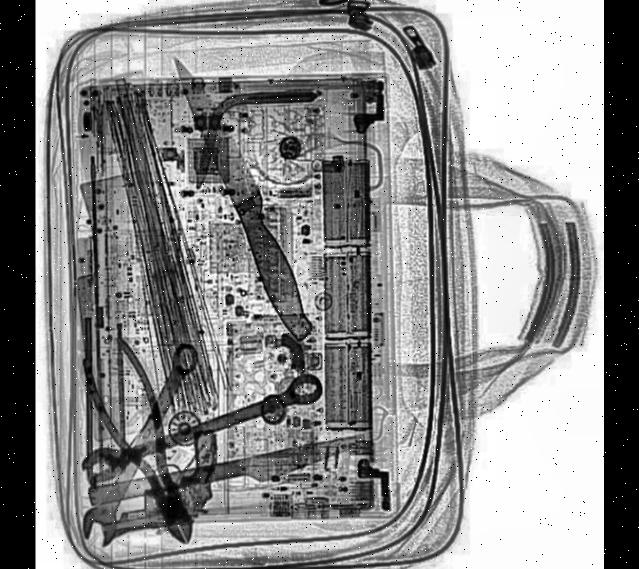Gun: (95, 427, 226, 541)
Knife: (166, 47, 322, 347), (90, 435, 368, 517)
Pliers: (76, 333, 216, 562)
Wrench: (81, 367, 328, 493), (78, 330, 206, 554)
